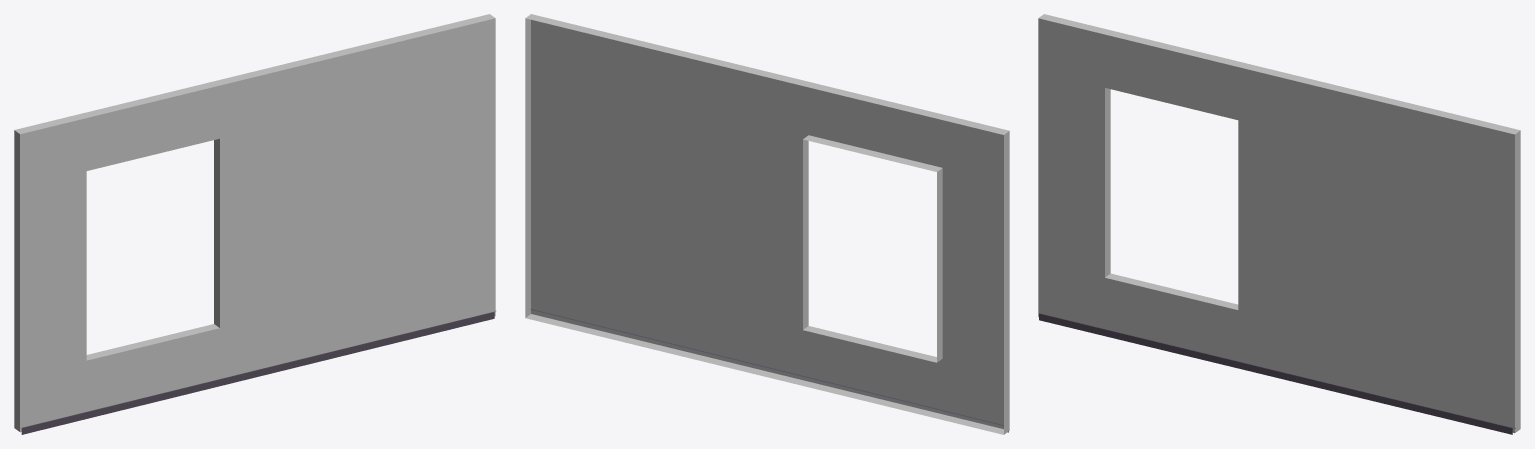
Rendered from StoneWall002.FBX.
3 renders of one model, left to right at view 1: azimuth 30°, elevation 25°; view 2: azimuth 150°, elevation 25°; view 3: azimuth 330°, elevation 25°, orthographic.
Parts seen in each view (by area): view 1: StoneWall002; view 2: StoneWall002; view 3: StoneWall002.
Boxes of the visible parts, x1,y1,x2,y2 form: StoneWall002: (14, 14, 495, 434); StoneWall002: (525, 14, 1009, 434); StoneWall002: (1038, 14, 1520, 434).
Size of the model in its own units: 22.76 by 13.72 by 0.526.
